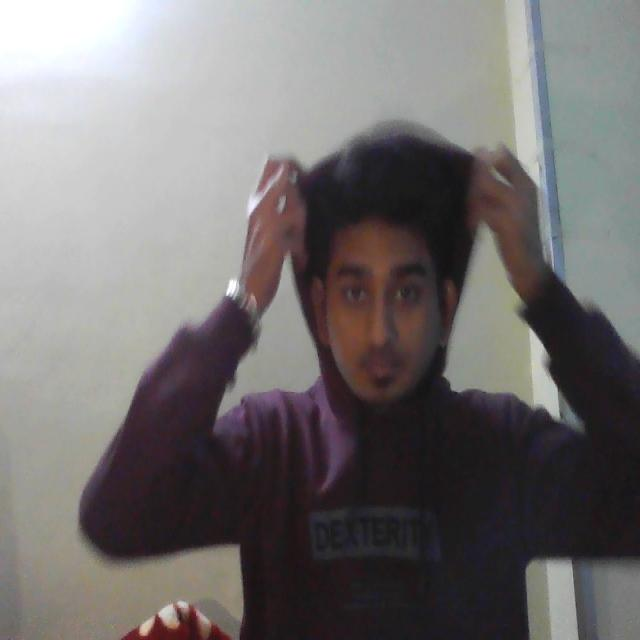real: (306, 143, 458, 429)
